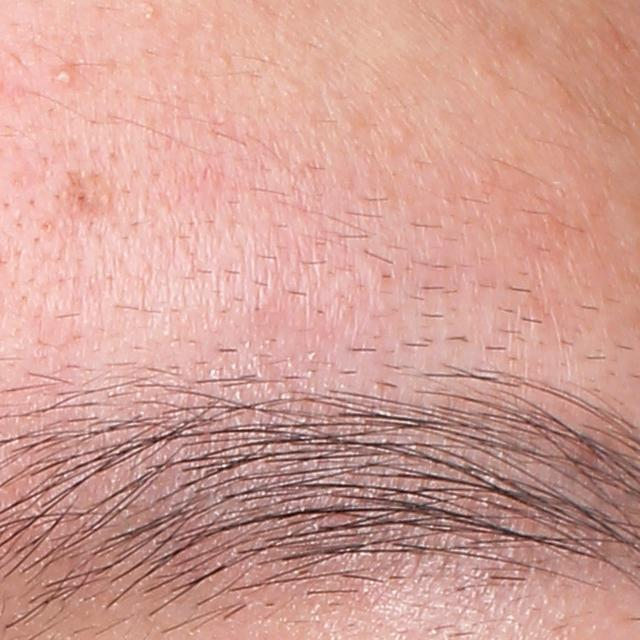pustule: (51, 63, 82, 89)
